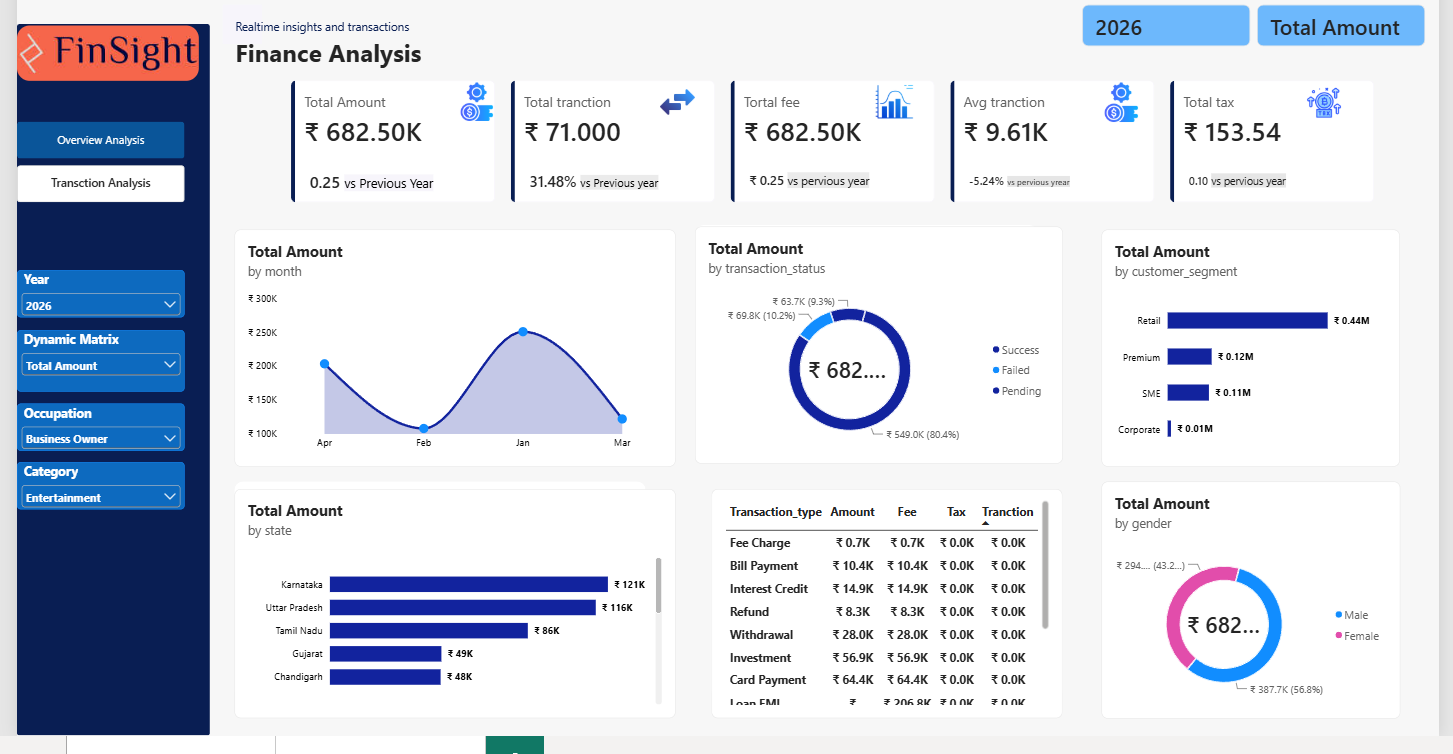

The page's visual inventory and layout, read from the dashboard file:
{"tool":"powerbi","page":{"name":"Overview Analysis ","canvas":[1800,950],"ordinal":0},"visuals":[{"type":"shape","box":[0,50,244,900],"z":0},{"type":"shape","box":[259.8,25.6,50,50],"z":1000},{"type":"image","box":[0,52,230,70],"z":2000},{"type":"cardVisual","fields":{"Data":["calender.Dashbord Title"]},"box":[260,26,314,96],"z":3000},{"type":"cardVisual","fields":{"Data":["finance_transactions.Total Amount","finance_transactions.Total tranction","finance_transactions.Tortal fee","finance_transactions.Avg tranction","finance_transactions.Total tax"]},"box":[345,120,1374,156],"z":4000},{"type":"slicer","fields":{"Values":["calender.year"]},"box":[0,360,212,60],"z":5000},{"type":"image","box":[555.8,123.5,51.1,49],"z":6000},{"type":"image","box":[811.3,123.5,46.8,49],"z":7000},{"type":"image","box":[1620.4,123.5,66,51.1],"z":8000},{"type":"image","box":[1371.3,123.5,50,50],"z":9000},{"type":"image","box":[1075.3,123.5,68.1,49],"z":10000},{"type":"slicer","fields":{"Values":["Dynamic Matrix.Dynamic Matrix"]},"box":[0,436,212,78],"z":11000},{"type":"shape","box":[276,310,558,300],"z":12000},{"type":"areaChart","fields":{"Category":["calender.month"],"Y":["finance_transactions.Total Amount"]},"box":[276,310,558,300],"z":13000},{"type":"cardVisual","fields":{"Data":["finance_transactions.Selected year","finance_transactions.Seleceted Dynamic Measure"]},"box":[1347.9,25.6,434.4,53.2],"z":14000},{"type":"shape","box":[858,304,434,300],"z":15000},{"type":"donutChart","fields":{"Category":["finance_transactions.transaction_status"],"Y":["finance_transactions.Total Amount"]},"box":[857.5,305,465,300],"z":16000},{"type":"shape","box":[1372.5,310,377.5,300],"z":17000},{"type":"barChart","fields":{"Category":["customers.customer_segment"],"Y":["finance_transactions.Total Amount"]},"box":[1372.5,310,377.5,300],"z":18000},{"type":"shape","box":[276,628,520,276],"z":19000},{"type":"barChart","fields":{"Category":["customers.state"],"Y":["finance_transactions.Total Amount"]},"box":[276,638,558,290],"z":20000},{"type":"shape","box":[878,638,444,266],"z":21000},{"type":"tableEx","fields":{"Values":["finance_transactions.transaction_type","finance_transactions.Total Amount","finance_transactions.Tortal fee","finance_transactions.Total tax","finance_transactions.Total tranction"]},"box":[878,638,444,290],"z":22000},{"type":"donutChart","fields":{"Category":["customers.gender"],"Y":["finance_transactions.Total Amount"]},"box":[1372,628,378,300],"z":23000},{"type":"slicer","fields":{"Values":["customers.occupation"]},"box":[0,530,212,60],"z":24000},{"type":"slicer","fields":{"Values":["finance_transactions.merchant_category"]},"box":[0,604,212,60],"z":25000},{"type":"pageNavigator","box":[0,172,212,102],"z":26000}]}

Visuals, with their boxes on the page's 1800x950 design canvas (x1, y1, x2, y2). These are canvas units, not pixel positions in the 1453x754 screenshot, which may show the page scaled, cropped or inside an application window:
shape: <bbox>0, 50, 244, 950</bbox>
shape: <bbox>260, 26, 310, 76</bbox>
image: <bbox>0, 52, 230, 122</bbox>
cardVisual - calender.Dashbord Title: <bbox>260, 26, 574, 122</bbox>
cardVisual - finance_transactions.Total Amount x finance_transactions.Total tranction: <bbox>345, 120, 1719, 276</bbox>
slicer - calender.year: <bbox>0, 360, 212, 420</bbox>
image: <bbox>556, 124, 607, 172</bbox>
image: <bbox>811, 124, 858, 172</bbox>
image: <bbox>1620, 124, 1686, 175</bbox>
image: <bbox>1371, 124, 1421, 174</bbox>
image: <bbox>1075, 124, 1143, 172</bbox>
slicer - Dynamic Matrix.Dynamic Matrix: <bbox>0, 436, 212, 514</bbox>
shape: <bbox>276, 310, 834, 610</bbox>
areaChart - calender.month x finance_transactions.Total Amount: <bbox>276, 310, 834, 610</bbox>
cardVisual - finance_transactions.Selected year x finance_transactions.Seleceted Dynamic Measure: <bbox>1348, 26, 1782, 79</bbox>
shape: <bbox>858, 304, 1292, 604</bbox>
donutChart - finance_transactions.transaction_status x finance_transactions.Total Amount: <bbox>858, 305, 1322, 605</bbox>
shape: <bbox>1372, 310, 1750, 610</bbox>
barChart - customers.customer_segment x finance_transactions.Total Amount: <bbox>1372, 310, 1750, 610</bbox>
shape: <bbox>276, 628, 796, 904</bbox>
barChart - customers.state x finance_transactions.Total Amount: <bbox>276, 638, 834, 928</bbox>
shape: <bbox>878, 638, 1322, 904</bbox>
tableEx - finance_transactions.transaction_type x finance_transactions.Total Amount: <bbox>878, 638, 1322, 928</bbox>
donutChart - customers.gender x finance_transactions.Total Amount: <bbox>1372, 628, 1750, 928</bbox>
slicer - customers.occupation: <bbox>0, 530, 212, 590</bbox>
slicer - finance_transactions.merchant_category: <bbox>0, 604, 212, 664</bbox>
pageNavigator: <bbox>0, 172, 212, 274</bbox>
